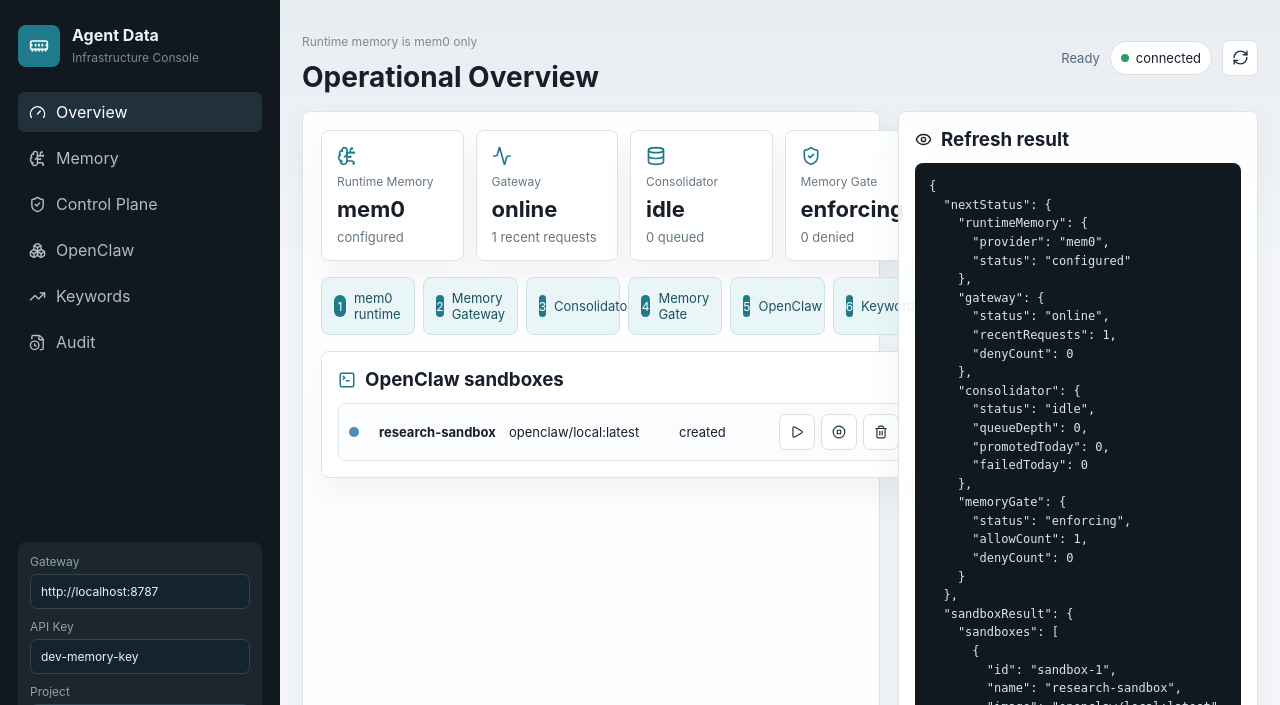
Test: App › deletes OpenClaw sandboxes without sending an empty JSON body
Click the button "OpenClaw" at x=140, y=250, box [18,230,262,270]
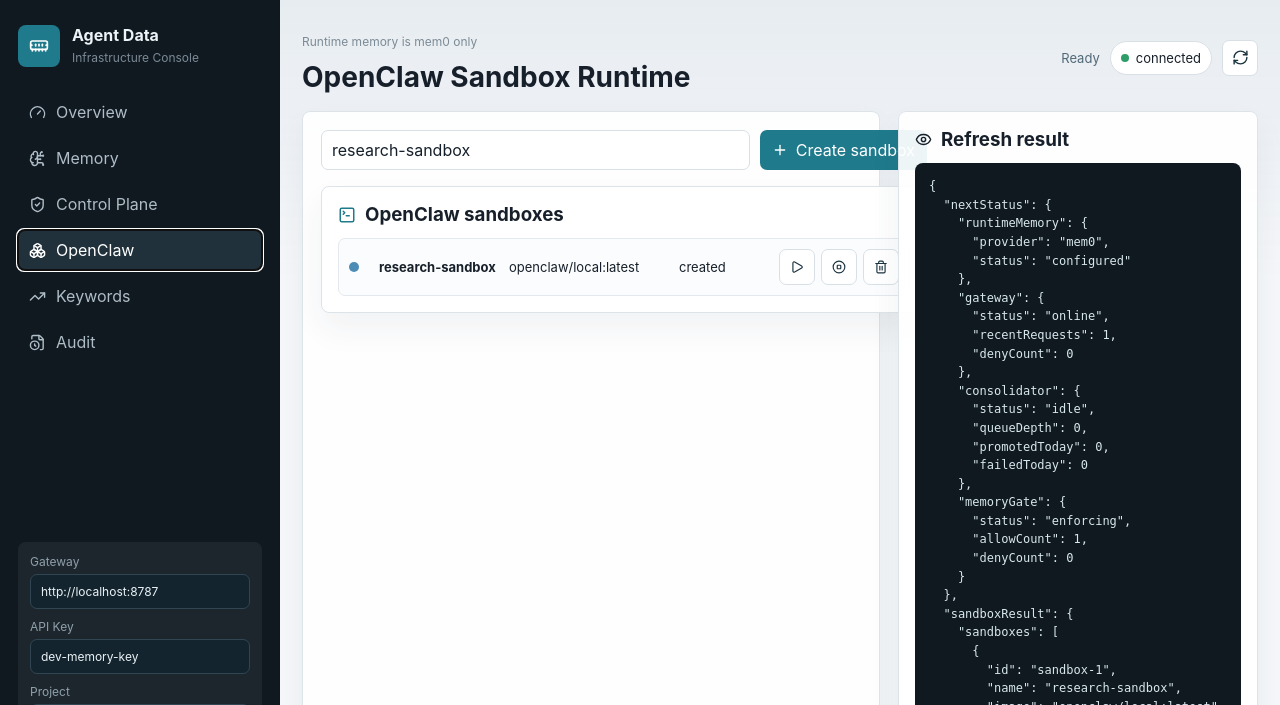
Click the button named "Delete research-sandbox" at x=881, y=267, box [863,249,899,285]
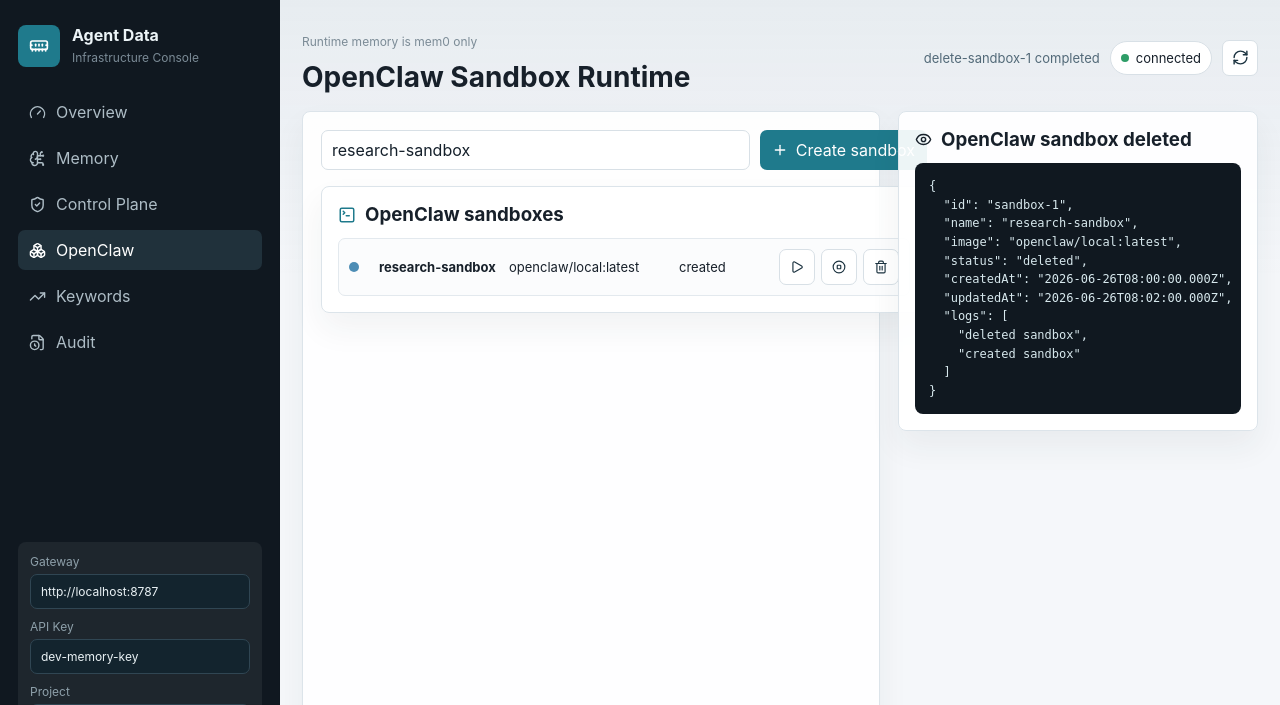
Now the heading "OpenClaw sandbox deleted" is shown, box [941,128,1192,151]
